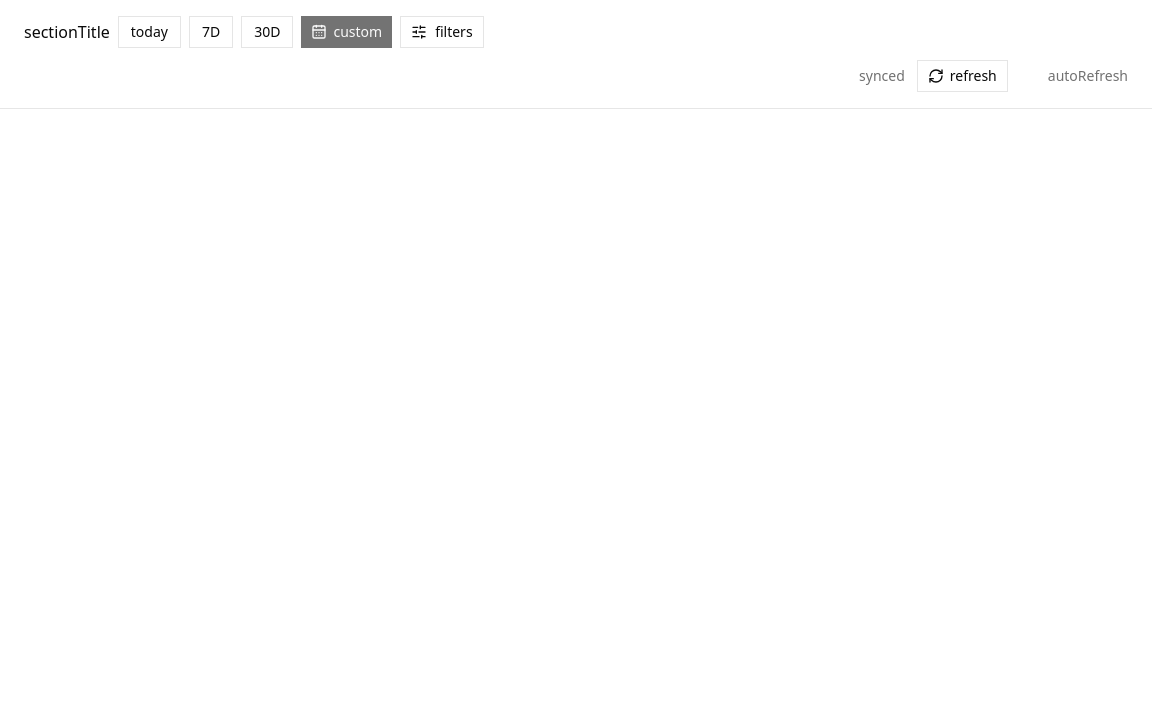
Test case: FiltersBar › opens the custom range with the resolved edges to the minute
Step 1. Click the button "custom" → click(347, 32), box [301,16,392,48]
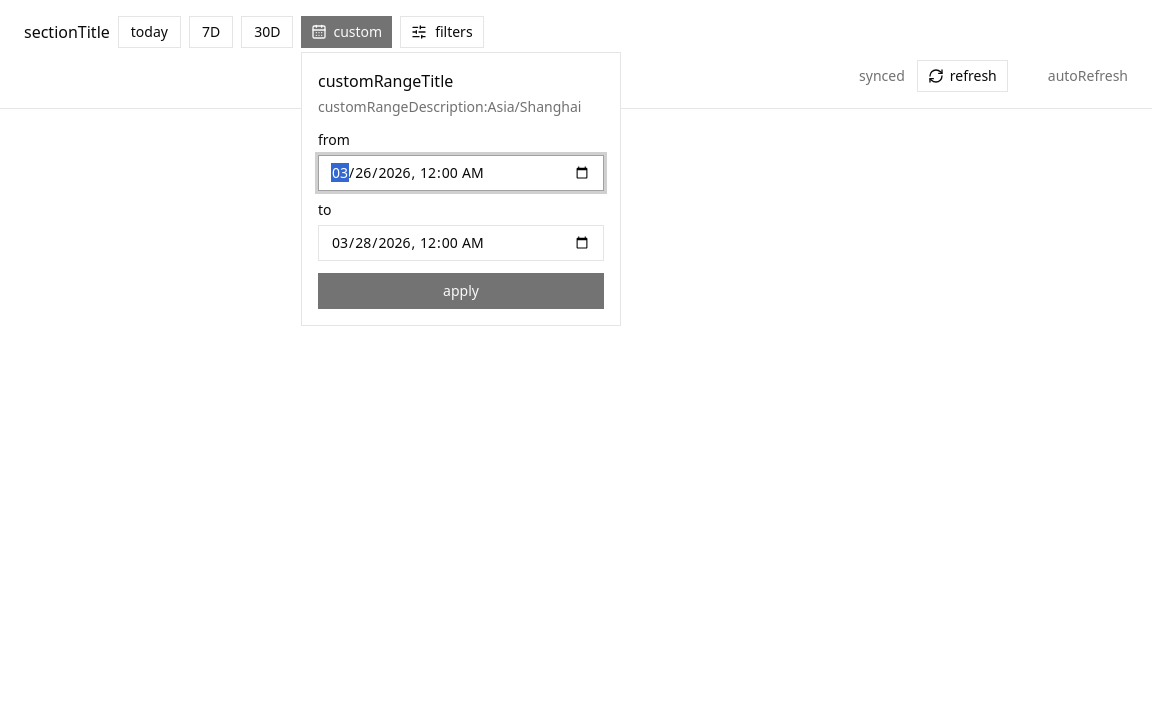
Expected: the field with id "custom-from" holds "2026-03-26T00:00", [318,155,604,191]
Expected: the field with id "custom-to" holds "2026-03-28T00:00", [318,225,604,261]
Expected: the text "customRangeDescription:Asia/Shanghai" is shown, [318,97,604,117]
